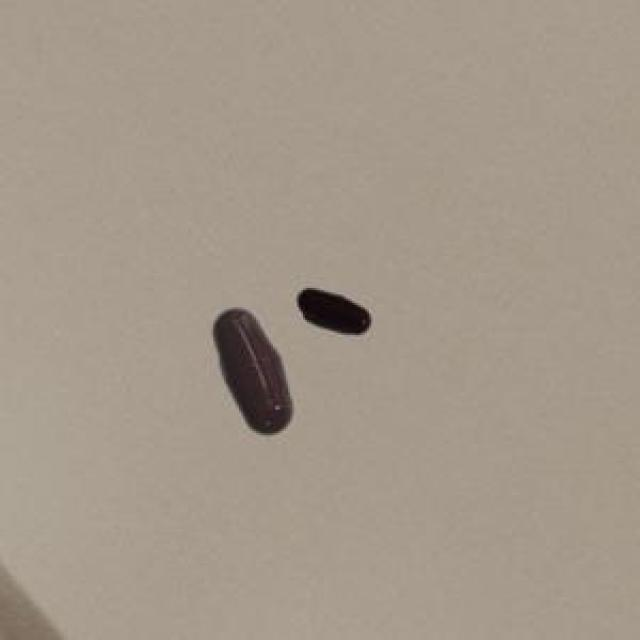DayZinc: (198, 300, 301, 460), (291, 271, 378, 345)
